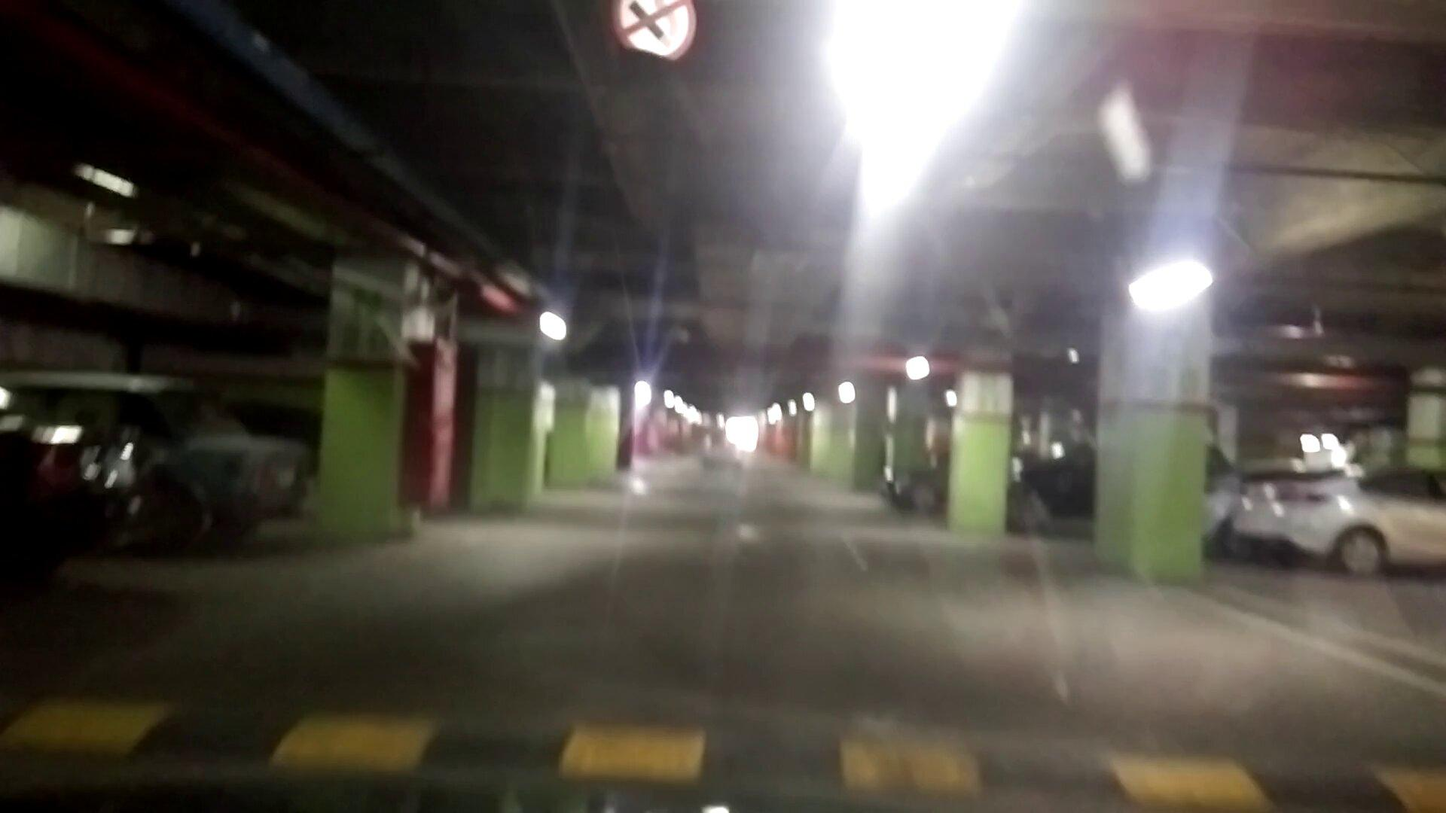Bump: (9, 664, 1446, 813)
